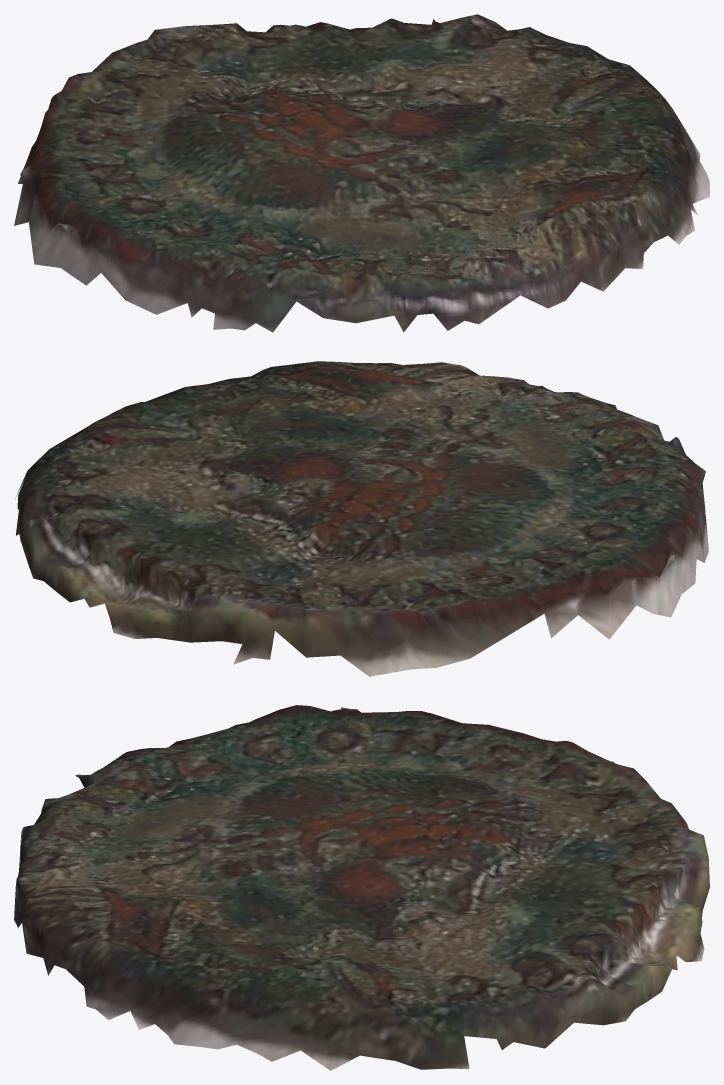
File: constan.glb
3 views of the same model, one above another, from view 1: azimuth 30°, elevation 25°; view 2: azimuth 150°, elevation 25°; view 3: azimuth 270°, elevation 25° (orthographic). The views are drawn at different scales.
Bounding box in the file's own units: 452 × 46.59 × 414.
Materials: 1 (1 with a texture image).
